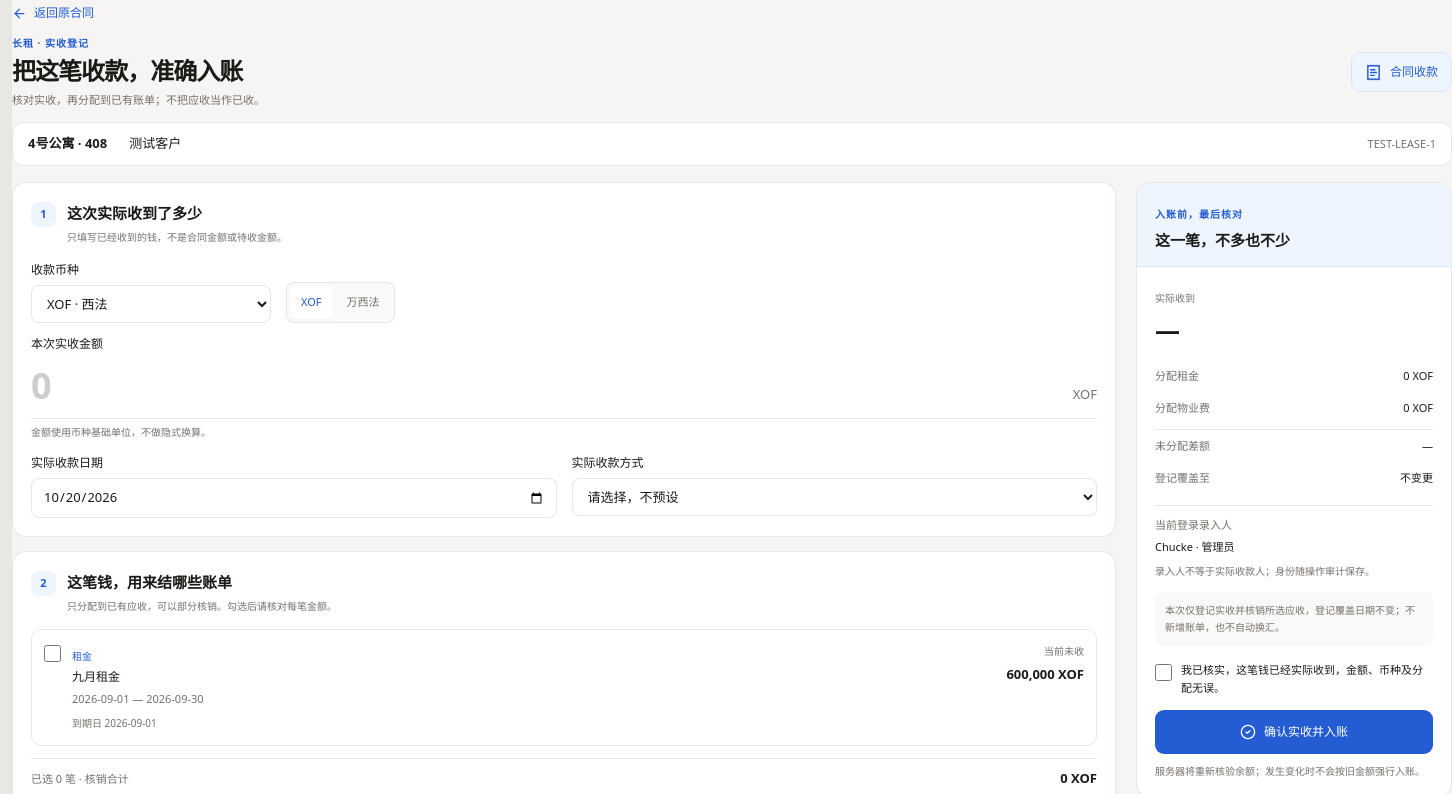
independent lease collection workbench › selects an existing bill explicitly but never infers the total received
Click the 1st checkbox: [52, 653] box [44,645,61,662]
(page scrolled)
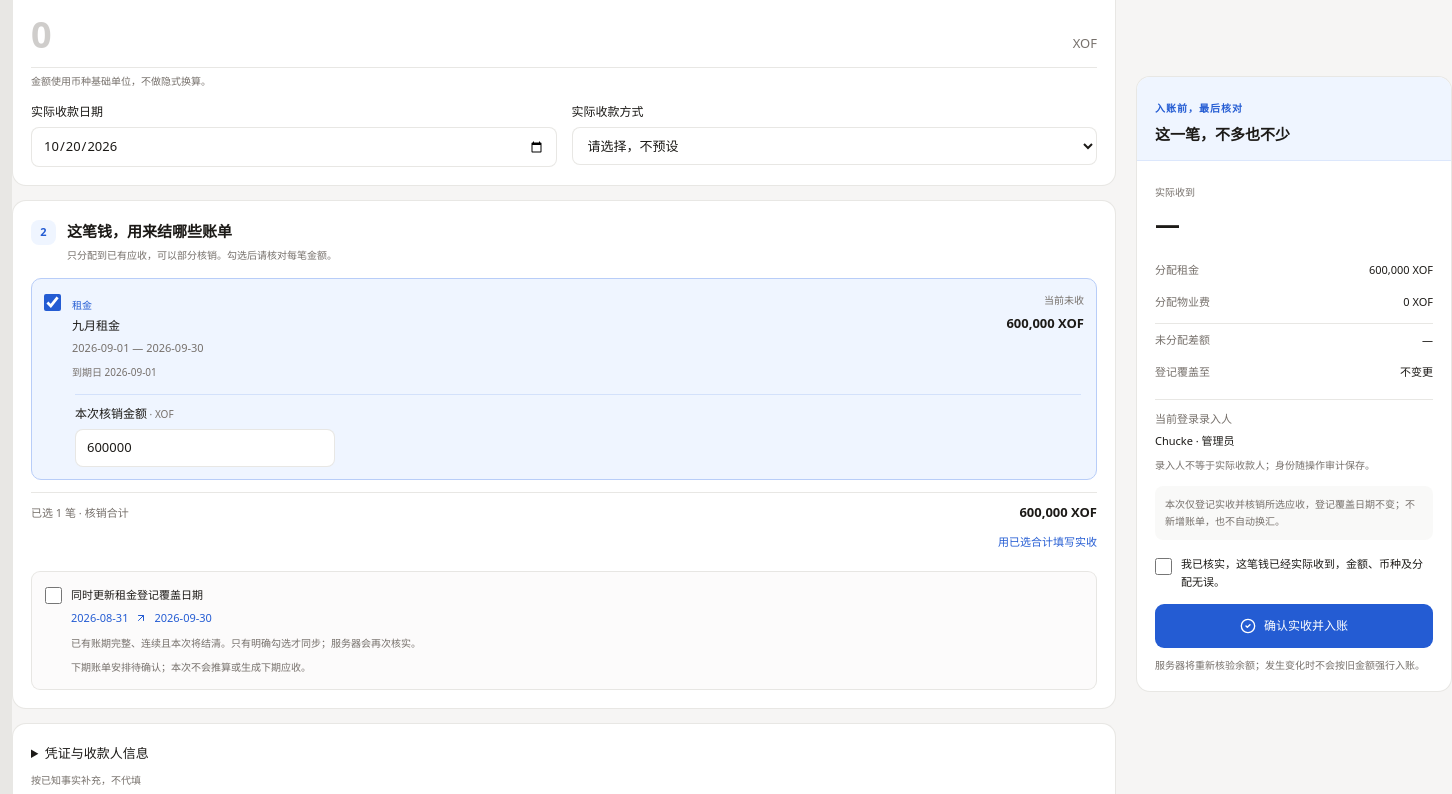
Check: the field labelled "本次实收金额 XOF" is empty, box [31,8,1063,62]
Check: the field named "九月租金 本次核销金额" holds "600000", box [75,429,335,467]
Click the button "用已选合计填写实收": [1048, 541] box [31,528,1097,556]
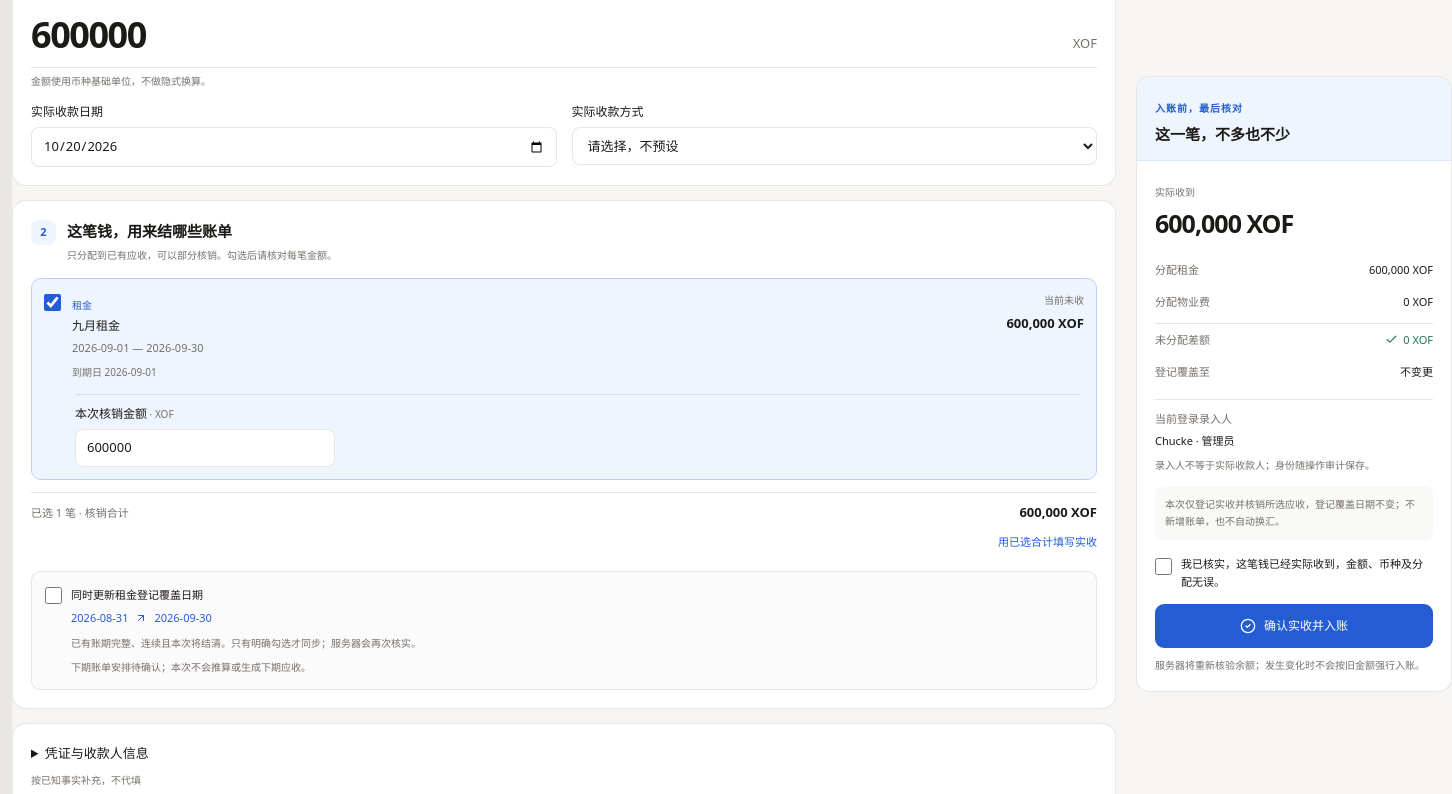
Check: the element showing "未分配差额 0 XOF" is shown, box [1155,323,1433,356]
Check: the field labelled "本次实收金额 XOF" holds "600000", box [31,8,1063,62]
